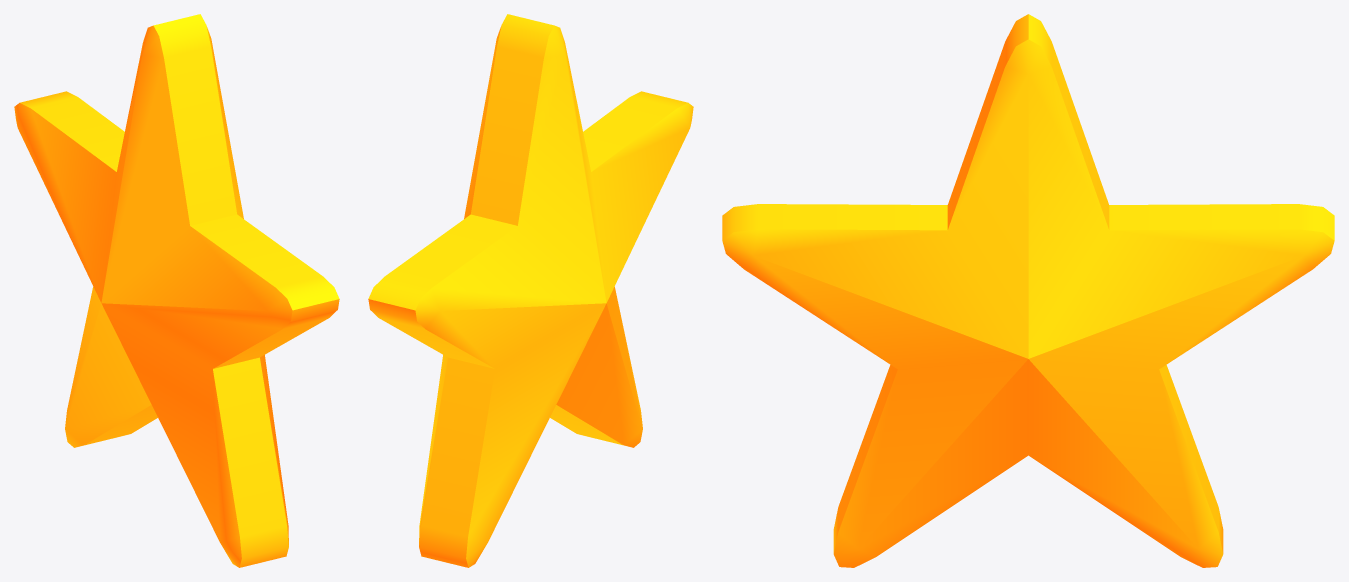
Rendered from star2.glb.
The picture shows the model from 3 angles, left to right: view 1: azimuth 30°, elevation 25°; view 2: azimuth 150°, elevation 25°; view 3: azimuth 270°, elevation 25°; orthographic projection. The views are drawn at different scales.
Parts seen in each view (by area): view 1: Вращение 360.001; view 2: Вращение 360.001; view 3: Вращение 360.001.
Part boxes in pixels (x1=…): Вращение 360.001: x1=14, y1=14, x2=339, y2=567; Вращение 360.001: x1=368, y1=14, x2=693, y2=567; Вращение 360.001: x1=722, y1=14, x2=1334, y2=567.
Size of the model in its own units: 0.0873 by 0.2652 by 0.2784.
